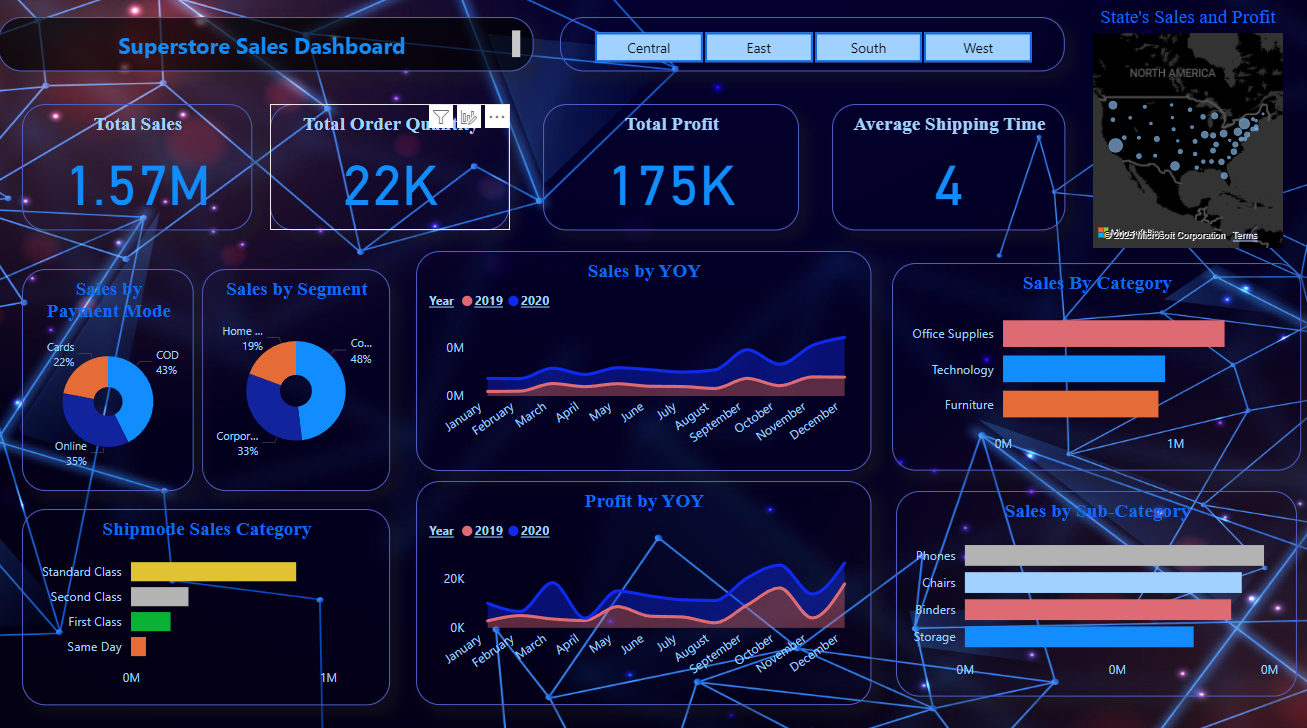

The page's visual inventory and layout, read from the dashboard file:
{"tool":"powerbi","page":{"name":"Page 1","canvas":[1280,720],"ordinal":0},"visuals":[{"type":"clusteredBarChart","title":"Sales By Category","fields":{"Category":["SuperStore_Sales_Dataset.Category"],"Y":["Sum(SuperStore_Sales_Dataset.Sales)"]},"box":[869.5,258.7,397.8,202.3],"z":0},{"type":"clusteredBarChart","title":" Sales by Sub-Category","fields":{"Category":["SuperStore_Sales_Dataset.Sub-Category"],"Y":["Sum(SuperStore_Sales_Dataset.Sales)"]},"box":[873.4,480.5,390,200.4],"z":1000},{"type":"clusteredBarChart","title":"Shipmode Sales Category","fields":{"Y":["Sum(SuperStore_Sales_Dataset.Sales)"],"Category":["SuperStore_Sales_Dataset.Ship Mode"]},"box":[23.3,498,357.9,190.6],"z":2000},{"type":"stackedAreaChart","title":"Sales by YOY","fields":{"Category":["SuperStore_Sales_Dataset.Order Date.Variation.Date Hierarchy.Month","SuperStore_Sales_Dataset.Order Date.Variation.Date Hierarchy.Day"],"Y":["Sum(SuperStore_Sales_Dataset.Sales)"],"Series":["SuperStore_Sales_Dataset.Order Date.Variation.Date Hierarchy.Year"]},"box":[406.6,247.1,442.6,214],"z":3000},{"type":"stackedAreaChart","title":"Profit by YOY","fields":{"Category":["SuperStore_Sales_Dataset.Order Date.Variation.Date Hierarchy.Month","SuperStore_Sales_Dataset.Order Date.Variation.Date Hierarchy.Day"],"Series":["SuperStore_Sales_Dataset.Order Date.Variation.Date Hierarchy.Year"],"Y":["Sum(SuperStore_Sales_Dataset.Profit)"]},"box":[406.6,470.8,442.6,217.9],"z":4000},{"type":"map","title":"State''s Sales and Profit","fields":{"Category":["SuperStore_Sales_Dataset.State"],"Size":["Sum(SuperStore_Sales_Dataset.Sales)"]},"box":[1060.2,8.8,194.5,238.3],"z":5000},{"type":"donutChart","title":"Sales by Segment","fields":{"Category":["SuperStore_Sales_Dataset.Segment"],"Y":["Sum(SuperStore_Sales_Dataset.Sales)"]},"box":[198.4,264.6,182.9,215.9],"z":6000},{"type":"donutChart","title":" Sales by Payment Mode","fields":{"Y":["Sum(SuperStore_Sales_Dataset.Sales)"],"Category":["SuperStore_Sales_Dataset.Payment Mode"]},"box":[23.3,264.6,167.3,215.9],"z":7000},{"type":"slicer","fields":{"Values":["SuperStore_Sales_Dataset.Region"]},"box":[546.6,19.5,491.2,52.5],"z":8000},{"type":"card","title":"Total Sales","fields":{"Values":["Sum(SuperStore_Sales_Dataset.Sales)"]},"box":[23.3,104.1,223.7,122.6],"z":9000},{"type":"card","title":"Total Order Quantity","fields":{"Values":["Sum(SuperStore_Sales_Dataset.Quantity)"]},"box":[264.6,104.1,233.4,122.6],"z":10000},{"type":"card","title":"Total Profit","fields":{"Values":["Sum(SuperStore_Sales_Dataset.Profit)"]},"box":[530.1,104.1,249,122.6],"z":11000},{"type":"card","title":"Average Shipping Time","fields":{"Values":["Avg(SuperStore_Sales_Dataset.AvgShippingTime)"]},"box":[811.2,104.1,226.6,122.6],"z":12000},{"type":"textbox","box":[0,19.5,521.3,52.5],"z":13000}]}

Visuals, with their boxes in screenshot pixels (x1, y1, x2, y2), scaled from the page's 1280x720 canvas onto the 1307x728 screenshot:
"Sales By Category" clusteredBarChart: {"x1": 888, "y1": 262, "x2": 1294, "y2": 466}
" Sales by Sub-Category" clusteredBarChart: {"x1": 892, "y1": 486, "x2": 1290, "y2": 688}
"Shipmode Sales Category" clusteredBarChart: {"x1": 24, "y1": 504, "x2": 389, "y2": 696}
"Sales by YOY" stackedAreaChart: {"x1": 415, "y1": 250, "x2": 867, "y2": 466}
"Profit by YOY" stackedAreaChart: {"x1": 415, "y1": 476, "x2": 867, "y2": 696}
"State''s Sales and Profit" map: {"x1": 1083, "y1": 9, "x2": 1281, "y2": 250}
"Sales by Segment" donutChart: {"x1": 203, "y1": 268, "x2": 389, "y2": 486}
" Sales by Payment Mode" donutChart: {"x1": 24, "y1": 268, "x2": 195, "y2": 486}
slicer - SuperStore_Sales_Dataset.Region: {"x1": 558, "y1": 20, "x2": 1060, "y2": 73}
"Total Sales" card: {"x1": 24, "y1": 105, "x2": 252, "y2": 229}
"Total Order Quantity" card: {"x1": 270, "y1": 105, "x2": 509, "y2": 229}
"Total Profit" card: {"x1": 541, "y1": 105, "x2": 796, "y2": 229}
"Average Shipping Time" card: {"x1": 828, "y1": 105, "x2": 1060, "y2": 229}
textbox: {"x1": 0, "y1": 20, "x2": 532, "y2": 73}
